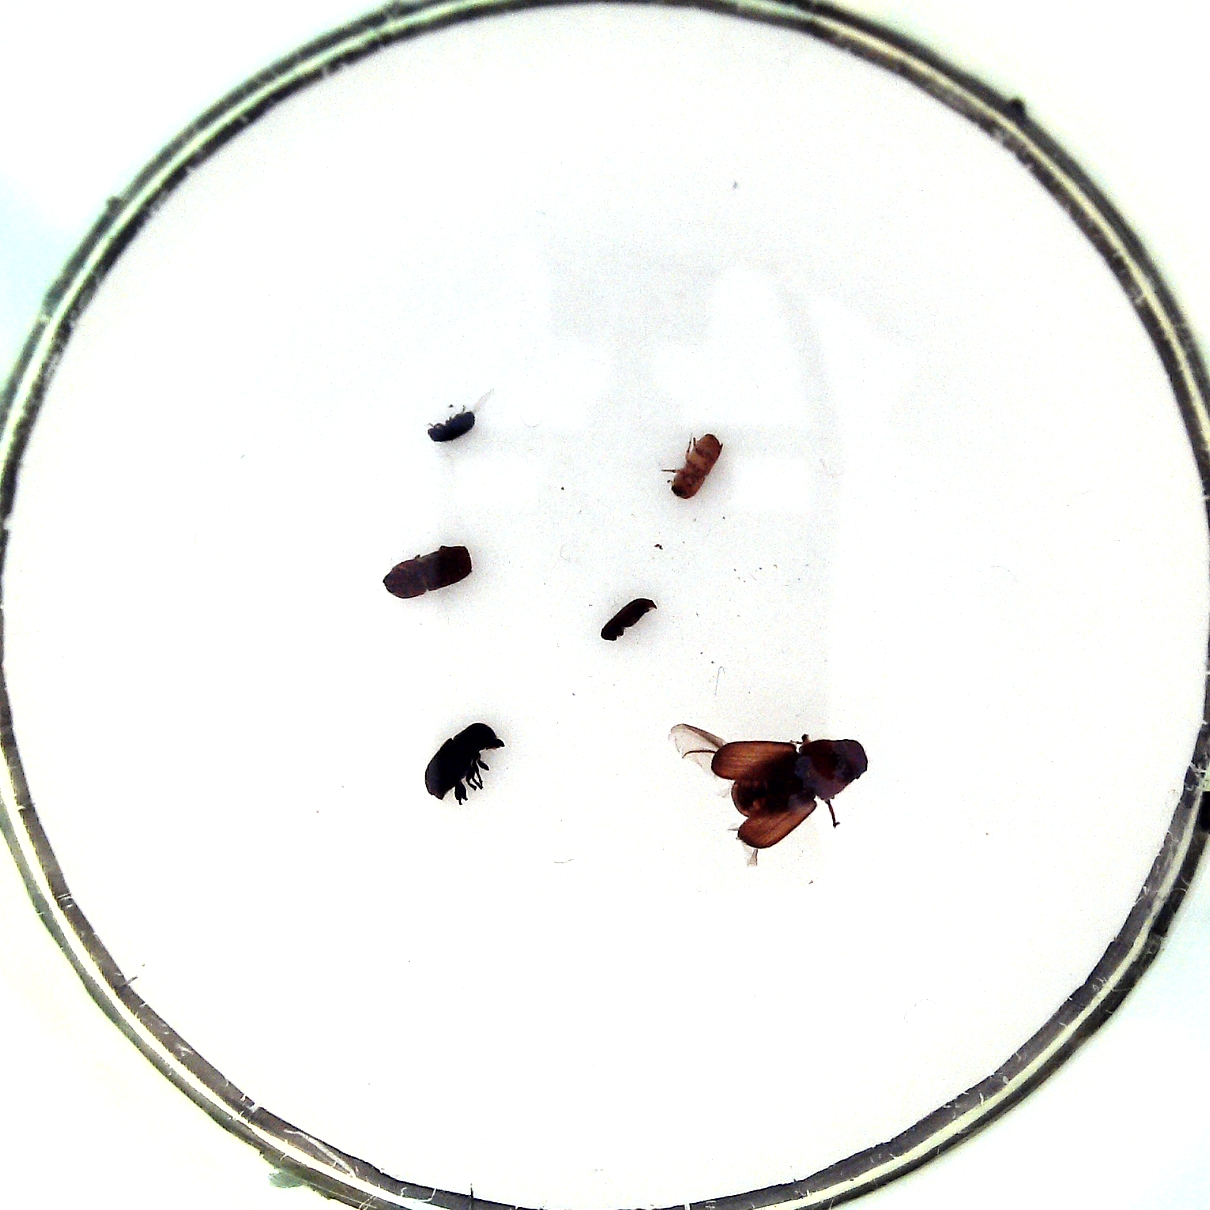Leconte: (711, 739, 868, 848)
acuminatus: (427, 413, 476, 442)
armandi: (425, 722, 504, 799)
coleoptera: (670, 434, 722, 499), (599, 598, 657, 640)
linnaeus: (383, 545, 472, 599)
